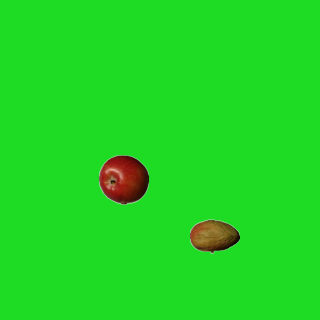Apple Braeburn: (98, 154, 148, 204)
Papaya: (189, 211, 239, 261)
